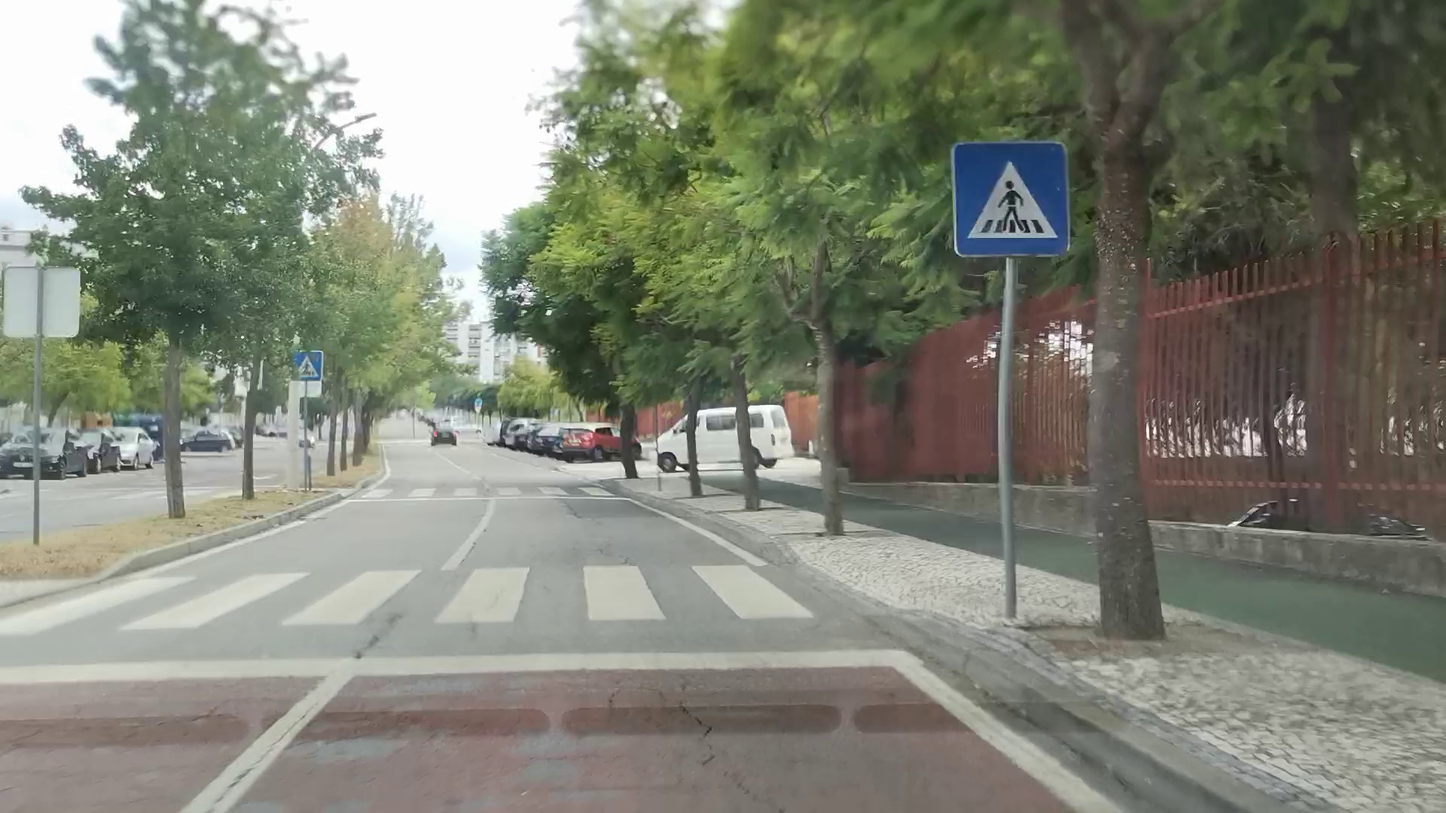Stairs: (1, 565, 810, 632), (358, 483, 616, 499)
